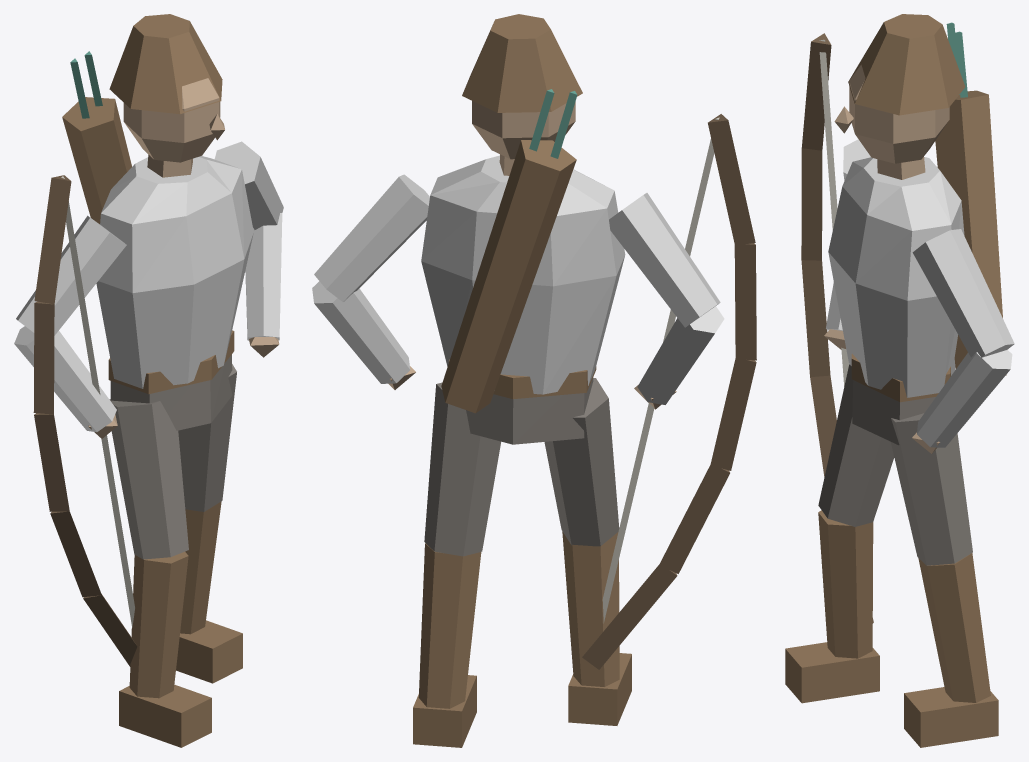
Rendered from archer.glb.
The picture shows the model from 3 angles, left to right: view 1: azimuth 30°, elevation 25°; view 2: azimuth 150°, elevation 25°; view 3: azimuth 270°, elevation 25°; orthographic projection. The views are drawn at different scales.
Parts seen in each view (by area): view 1: LOD0; view 2: LOD0; view 3: LOD0.
Part boxes in pixels (<box>): LOD0: <box>14,14,283,747</box>; LOD0: <box>312,14,756,747</box>; LOD0: <box>785,14,1014,747</box>.
Size of what is drawn, in the model's own units: 0.5239 by 0.993 by 0.3038.
